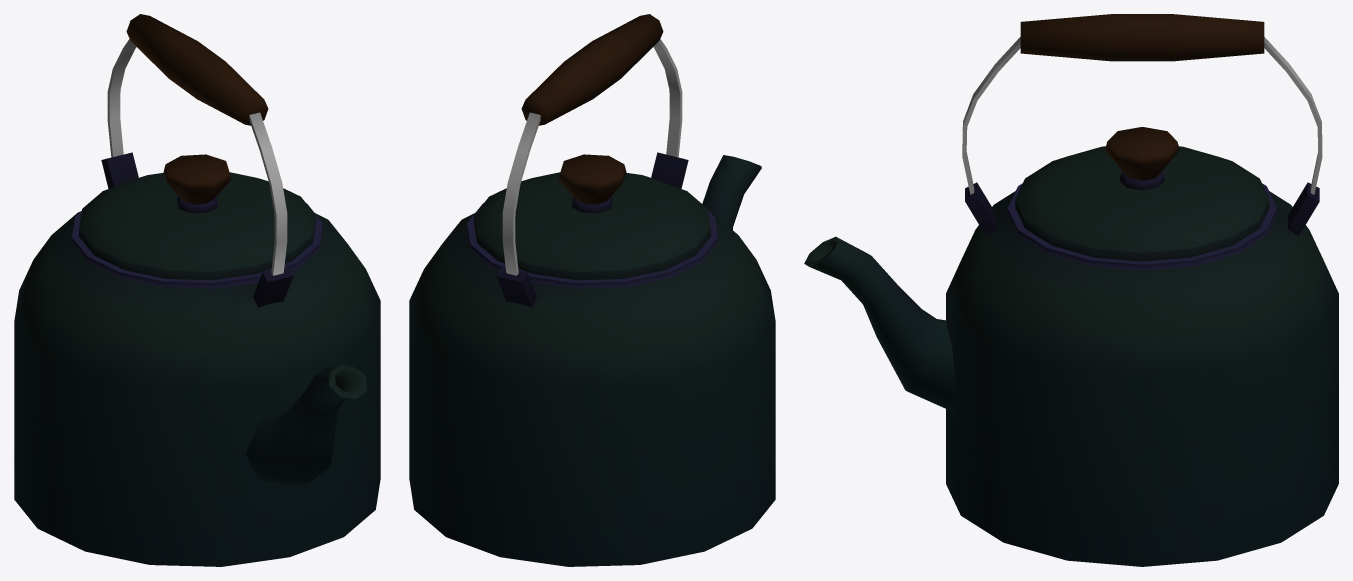
File: Kettle_Medium.fbx
3 views of the same model, side by side, from view 1: azimuth 30°, elevation 25°; view 2: azimuth 150°, elevation 25°; view 3: azimuth 270°, elevation 25° (orthographic). The views are drawn at different scales.
Parts seen in each view (by area): view 1: Kettle_Medium; view 2: Kettle_Medium; view 3: Kettle_Medium.
Part boxes in pixels (x1,y1,x2,y2): Kettle_Medium: (14, 14, 380, 566); Kettle_Medium: (409, 14, 775, 566); Kettle_Medium: (804, 14, 1338, 566).
Bounding box in the file's own units: 62.47 × 82.29 × 85.01.
